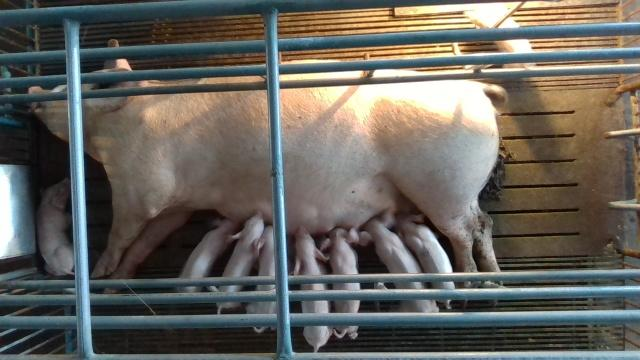piglet: (360, 209, 438, 312), (394, 212, 456, 310), (214, 209, 265, 315), (292, 228, 332, 352), (175, 218, 240, 293), (320, 227, 362, 340), (38, 175, 75, 276), (246, 225, 275, 335), (488, 18, 534, 68)
sow-sleep-lactate: (27, 38, 504, 307)
